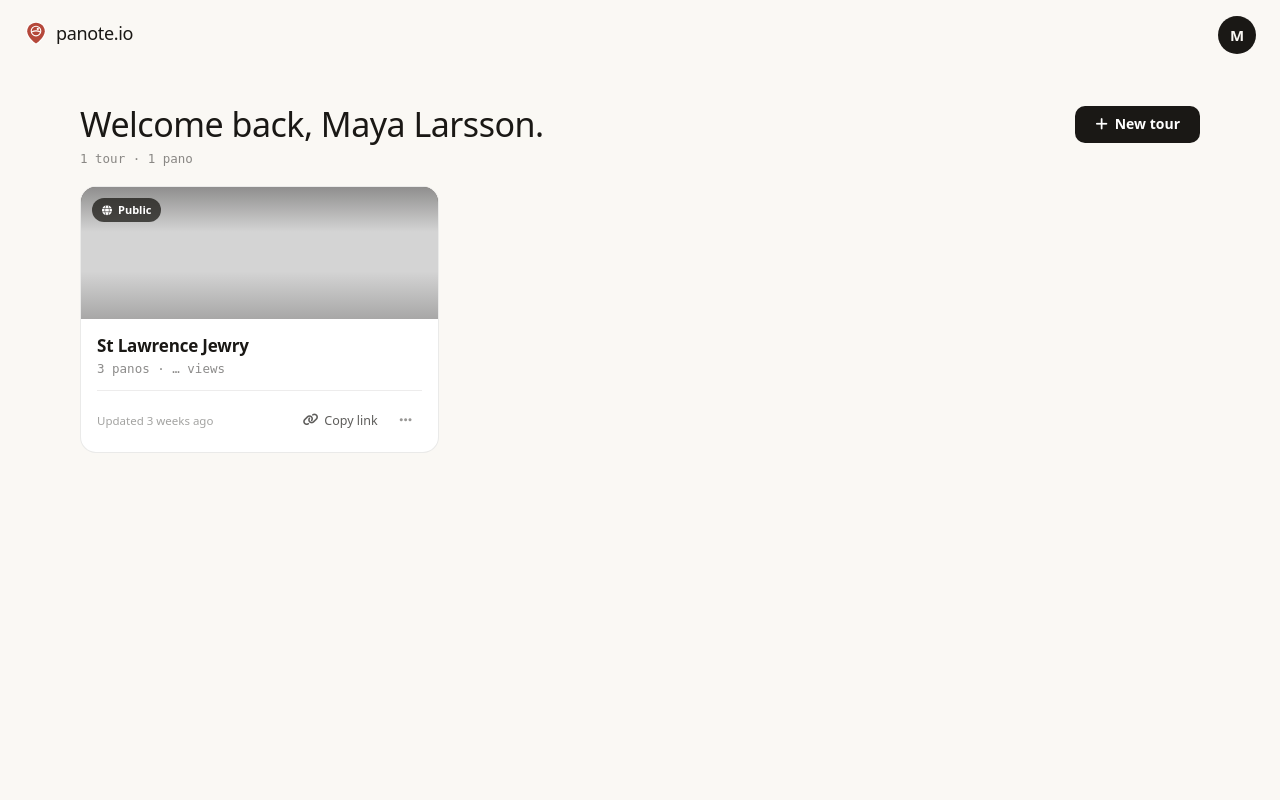
Test: Dashboard › card actions › keeps Copy link on the card and the rest in its menu
Expected: the link "St Lawrence Jewry" is shown, left=97, top=334, right=249, bottom=357
Click the button with aria-label "Copy link to “St Lawrence Jewry”" at [340, 420], box left=293, top=404, right=388, bottom=436
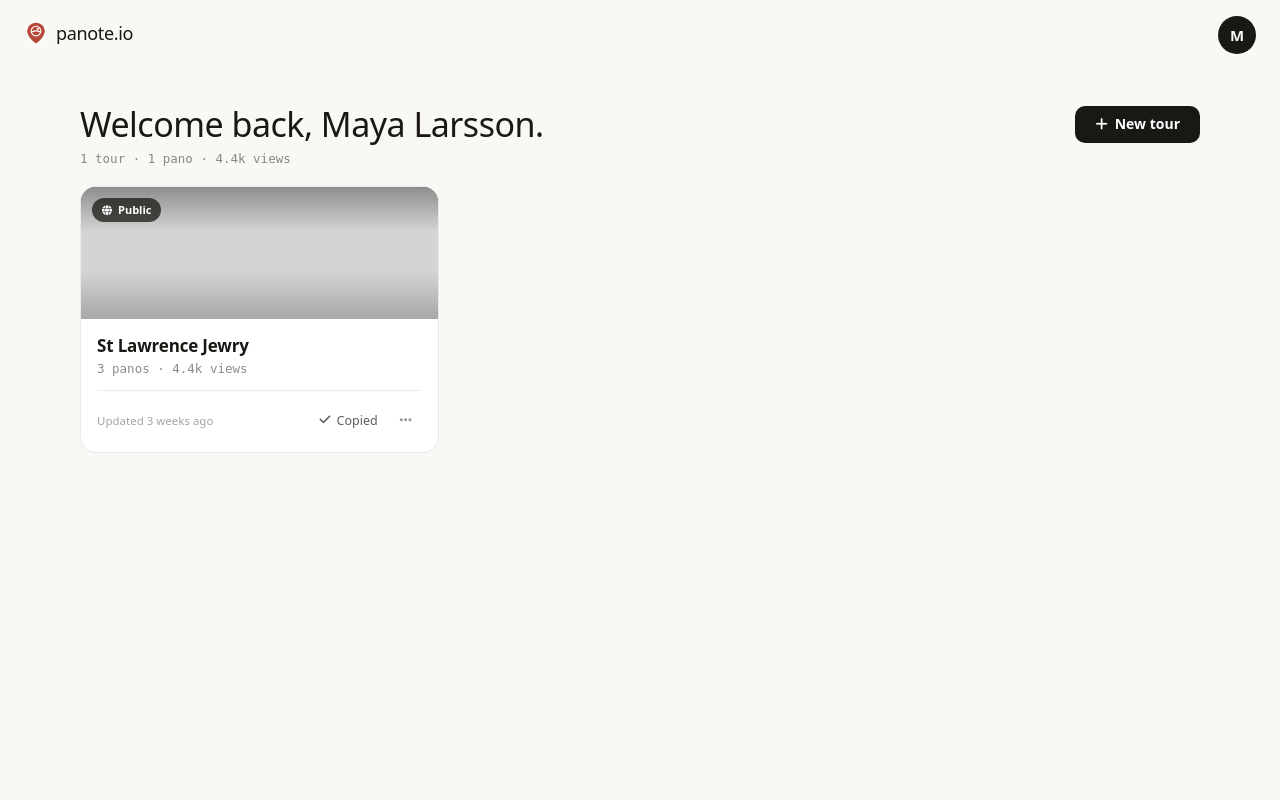
Expected: the button with aria-label "Copy link to “St Lawrence Jewry”" reads "Copied", left=310, top=404, right=388, bottom=436
Click the button named "More for “St Lawrence Jewry”" at [406, 420], box left=390, top=404, right=422, bottom=436
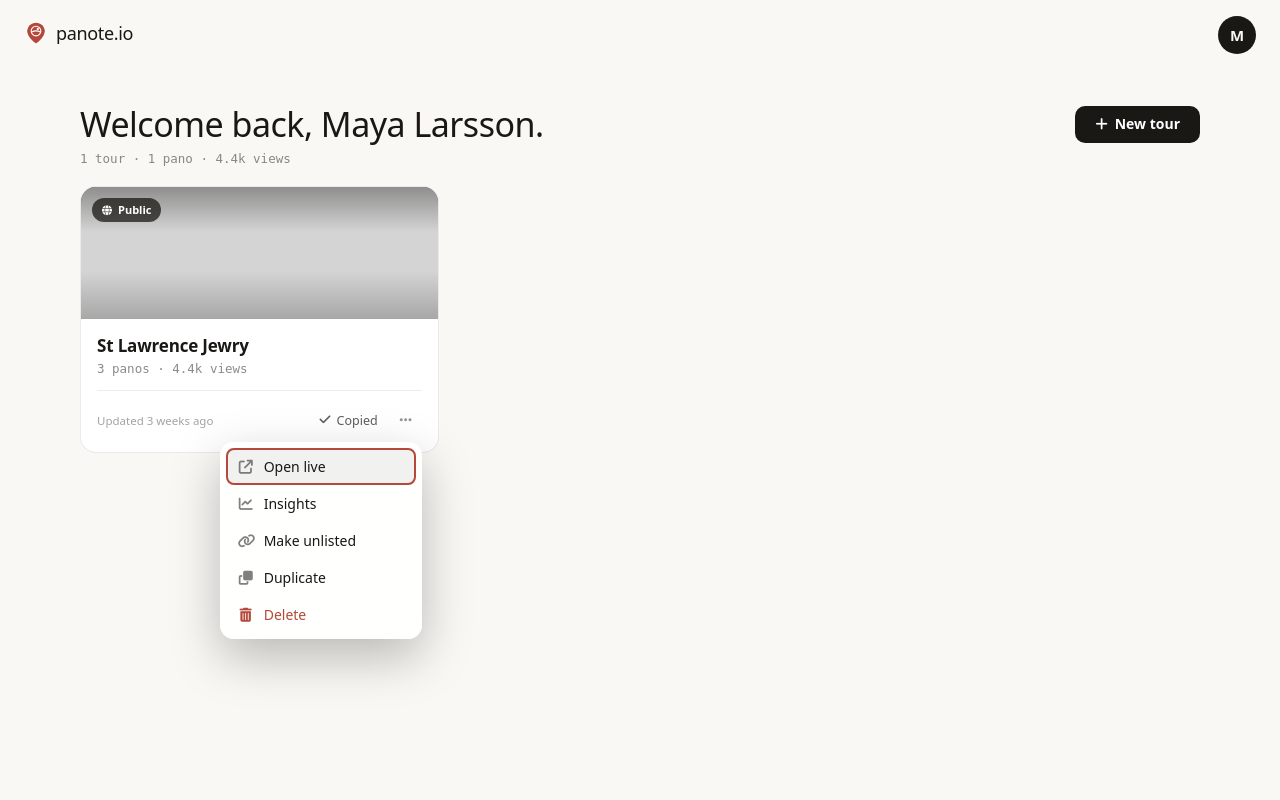
Expected: the menu items read "Open live", "Insights", "Make unlisted", "Duplicate", "Delete", in this order, left=226, top=448, right=416, bottom=485; left=238, top=494, right=316, bottom=513; left=226, top=522, right=416, bottom=559; left=226, top=559, right=416, bottom=596; left=226, top=596, right=416, bottom=633
